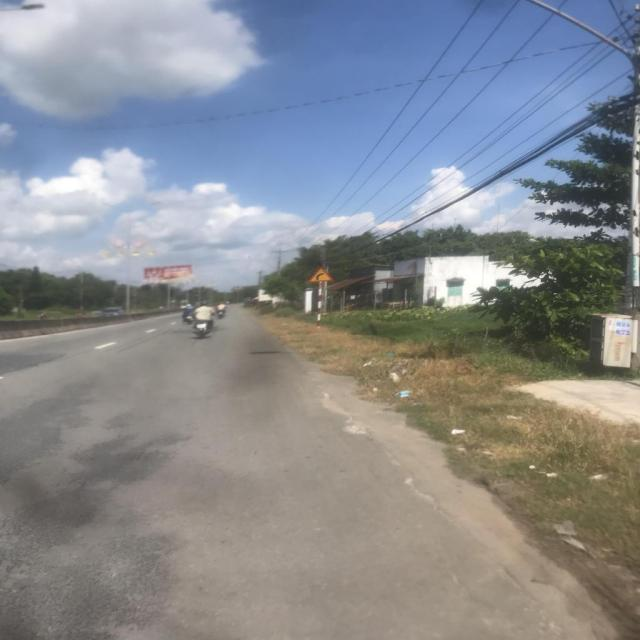cho_ngoat_nguy_hiem_ben_phai: (307, 266, 334, 282)
